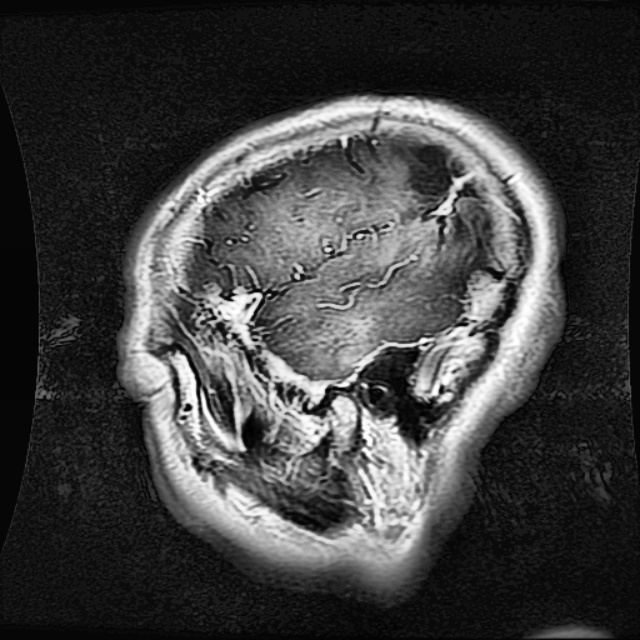Meningioma: (413, 144, 480, 243)
